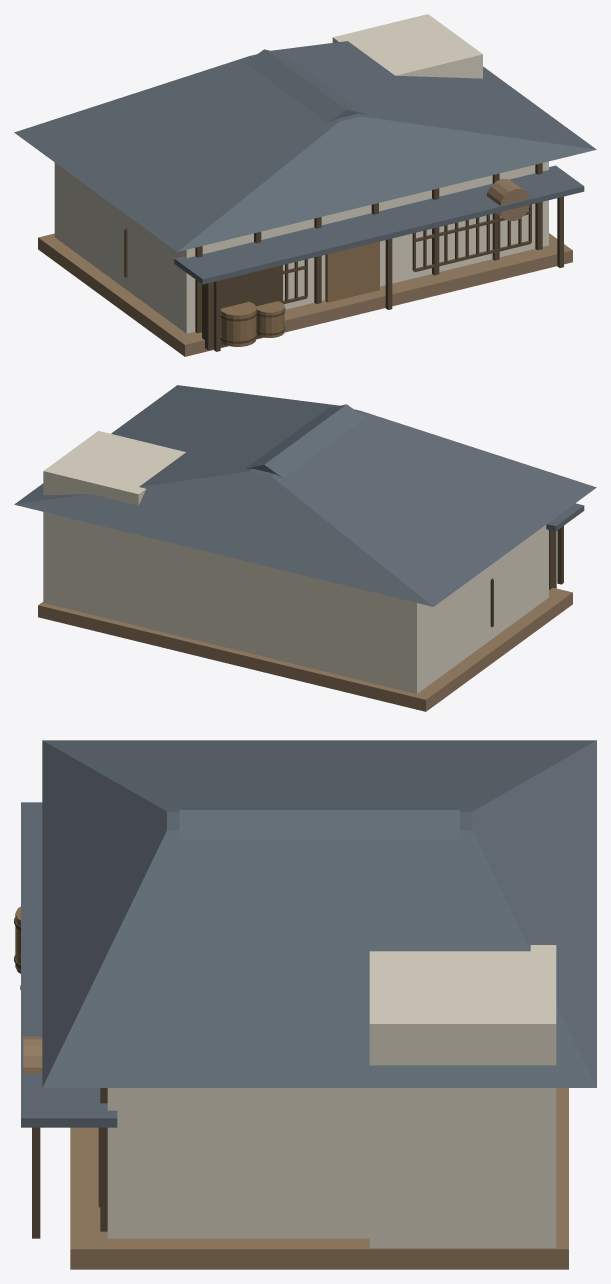
File: asset_proof_sake_shop.glb
3 renders of one model, top to bottom at view 1: azimuth 30°, elevation 25°; view 2: azimuth 150°, elevation 25°; view 3: azimuth 270°, elevation 25°, orthographic. The views are drawn at different scales.
Parts seen in each view (by area): view 1: sake_main_hip, sake_body, sake_canopy, sake_plinth, sake_kura, sake_kura_roof, sake_loading_frame, sake_entry, sake_cask_a, sake_sugidama, sake_cask_b, sake_canopy_post_1 (+5 smaller); view 2: sake_main_hip, sake_body, sake_kura, sake_plinth, sake_kura_roof, sake_canopy, sake_loading_frame; view 3: sake_main_hip, sake_kura, sake_body, sake_plinth, sake_canopy, sake_kura_roof, sake_canopy_post_2, sake_post_6, sake_sugidama.
Boxes of the visible parts, box(x1,y1,x2,y2) form: sake_main_hip: box(14, 41, 596, 251); sake_body: box(54, 161, 548, 333); sake_canopy: box(174, 165, 584, 284); sake_plinth: box(38, 233, 572, 356); sake_kura: box(332, 14, 482, 78); sake_kura_roof: box(245, 49, 365, 122); sake_loading_frame: box(202, 265, 282, 350); sake_entry: box(325, 241, 379, 302); sake_cask_a: box(220, 301, 256, 346); sake_sugidama: box(486, 179, 529, 221); sake_cask_b: box(256, 301, 284, 337); sake_canopy_post_1: box(385, 238, 392, 309); sake_main_hip: box(14, 385, 596, 606); sake_body: box(55, 516, 548, 693); sake_kura: box(43, 431, 185, 625); sake_plinth: box(38, 587, 572, 711); sake_kura_roof: box(245, 404, 365, 477); sake_canopy: box(546, 503, 584, 531); sake_loading_frame: box(549, 530, 556, 589); sake_main_hip: box(42, 740, 596, 1087); sake_kura: box(369, 945, 556, 1247); sake_body: box(107, 1088, 369, 1238); sake_plinth: box(70, 1088, 568, 1269); sake_canopy: box(21, 802, 117, 1127); sake_kura_roof: box(179, 809, 459, 840); sake_canopy_post_2: box(32, 1127, 40, 1238); sake_post_6: box(100, 1088, 107, 1231); sake_sugidama: box(23, 1036, 42, 1073).
Bounding box in the file's own units: 13.2 × 5.3 × 9.35.
